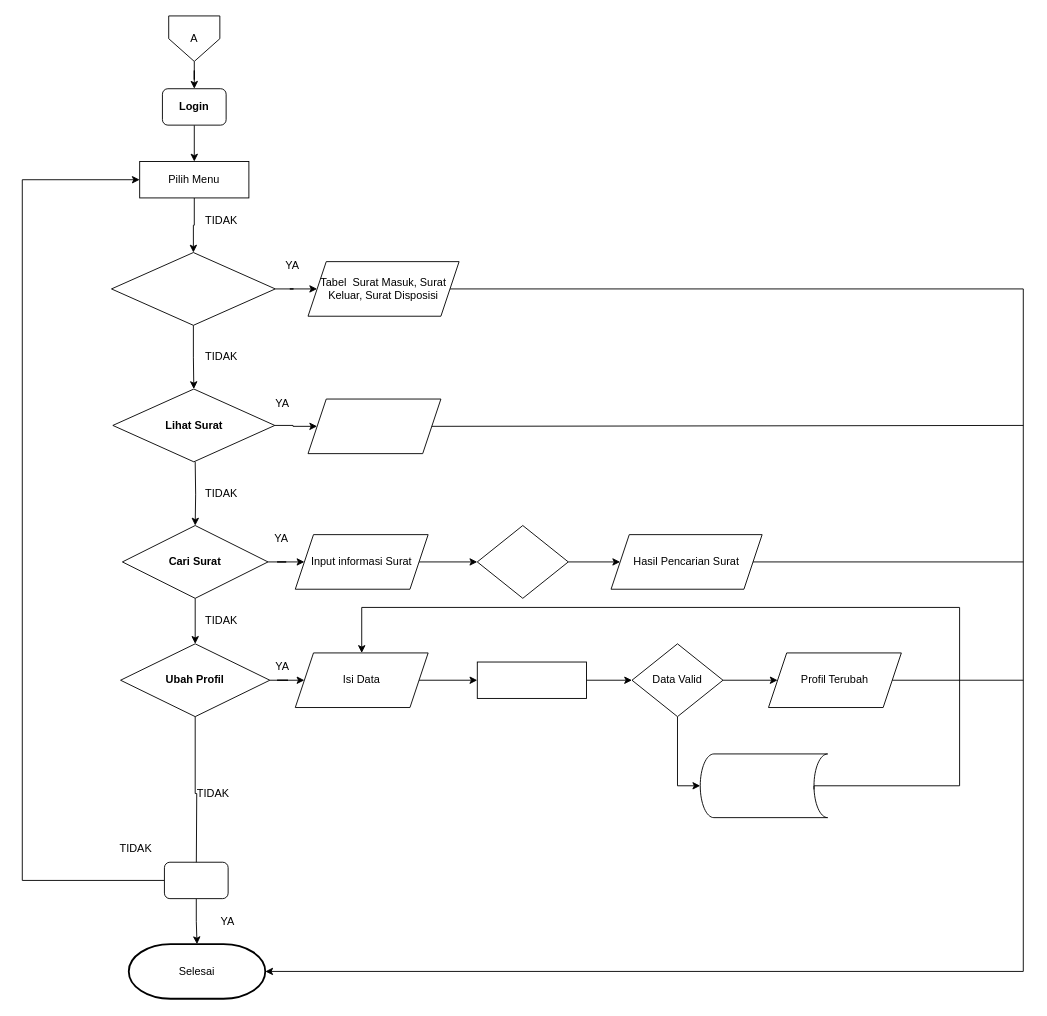
Some shapes in this 1047 by 1016 pixel diagram are drawn without their labels. Here are the shapes that lost their labels. From the top down, the box of each, then its label:
(111, 252, 275, 325): Dashboard
(307, 398, 441, 454): List Surat masuk dan Surat Keluar
(476, 525, 568, 598): Data Surat Ada?
(476, 661, 586, 698): Upload Foto
(699, 753, 828, 818): Menampilkan Pesan Gagal Ubah Profill
(164, 861, 228, 899): Logout
